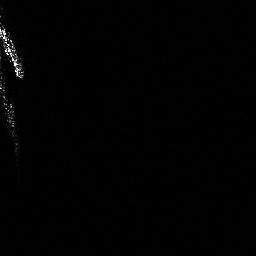ship: (1, 21, 27, 80)
